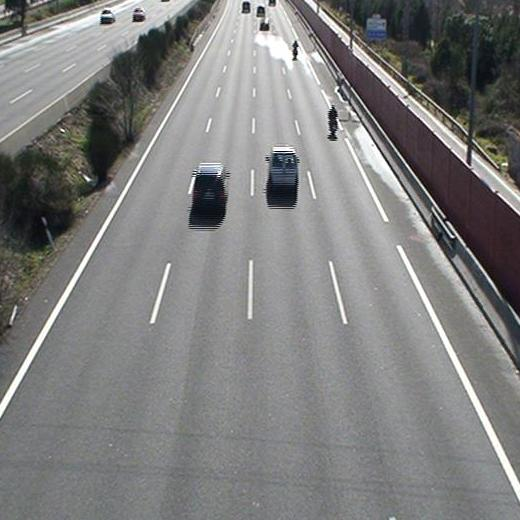car: (192, 161, 227, 210), (259, 18, 270, 31)
motorcycle: (326, 103, 339, 140), (291, 39, 299, 60)
van: (267, 146, 300, 194)
